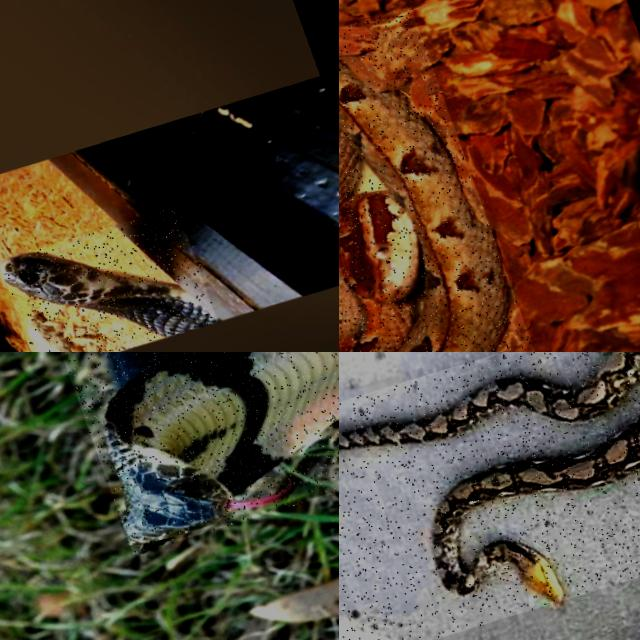Calloselasma rhodostoma: (339, 65, 508, 351)
Malayopython reticulatus: (433, 423, 639, 602)
Naja siamensis: (106, 352, 338, 553), (3, 251, 220, 336)
snake: (339, 65, 508, 351), (106, 352, 338, 553), (433, 423, 639, 602), (3, 251, 220, 336)
